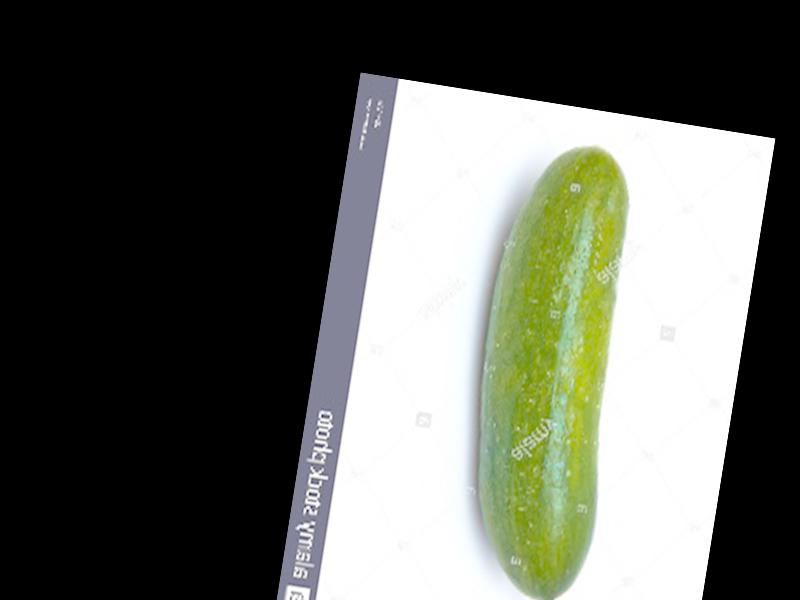Cucumber: (442, 132, 654, 600)
